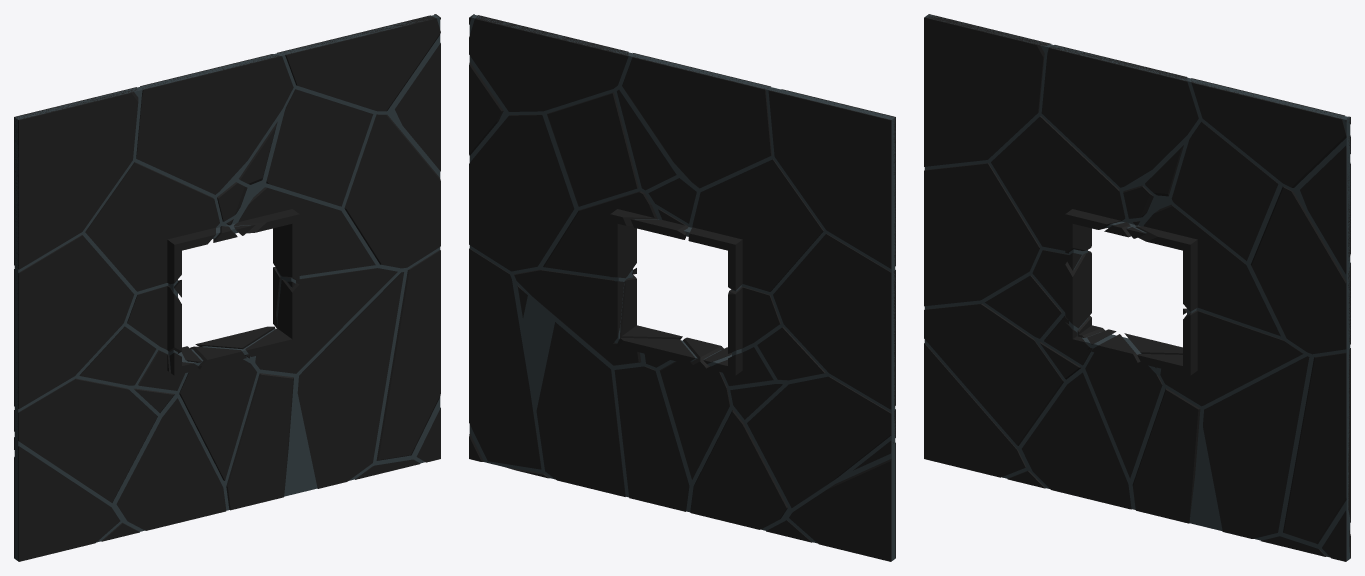
File: Wall.glb
3 views of the same model, side by side, from view 1: azimuth 30°, elevation 25°; view 2: azimuth 150°, elevation 25°; view 3: azimuth 330°, elevation 25° (orthographic).
Parts seen in each view (by area): view 1: Wall Merged; view 2: Wall Merged; view 3: Wall Merged.
Boxes of the visible parts, x1,y1,x2,y2 form: Wall Merged: (14, 14, 440, 561); Wall Merged: (469, 14, 895, 561); Wall Merged: (924, 14, 1350, 561).
Bounding box in the file's own units: 25 × 25 × 1.96.
1 material, 1 textured.
